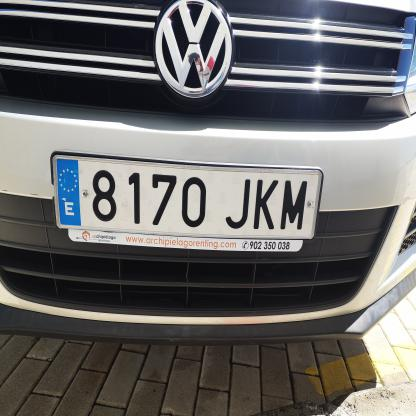patente: (55, 151, 320, 240)
